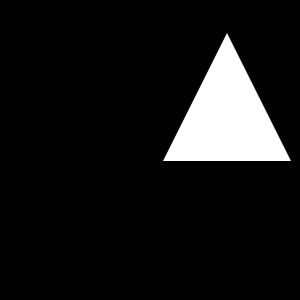triangle: (163, 33, 291, 161)
